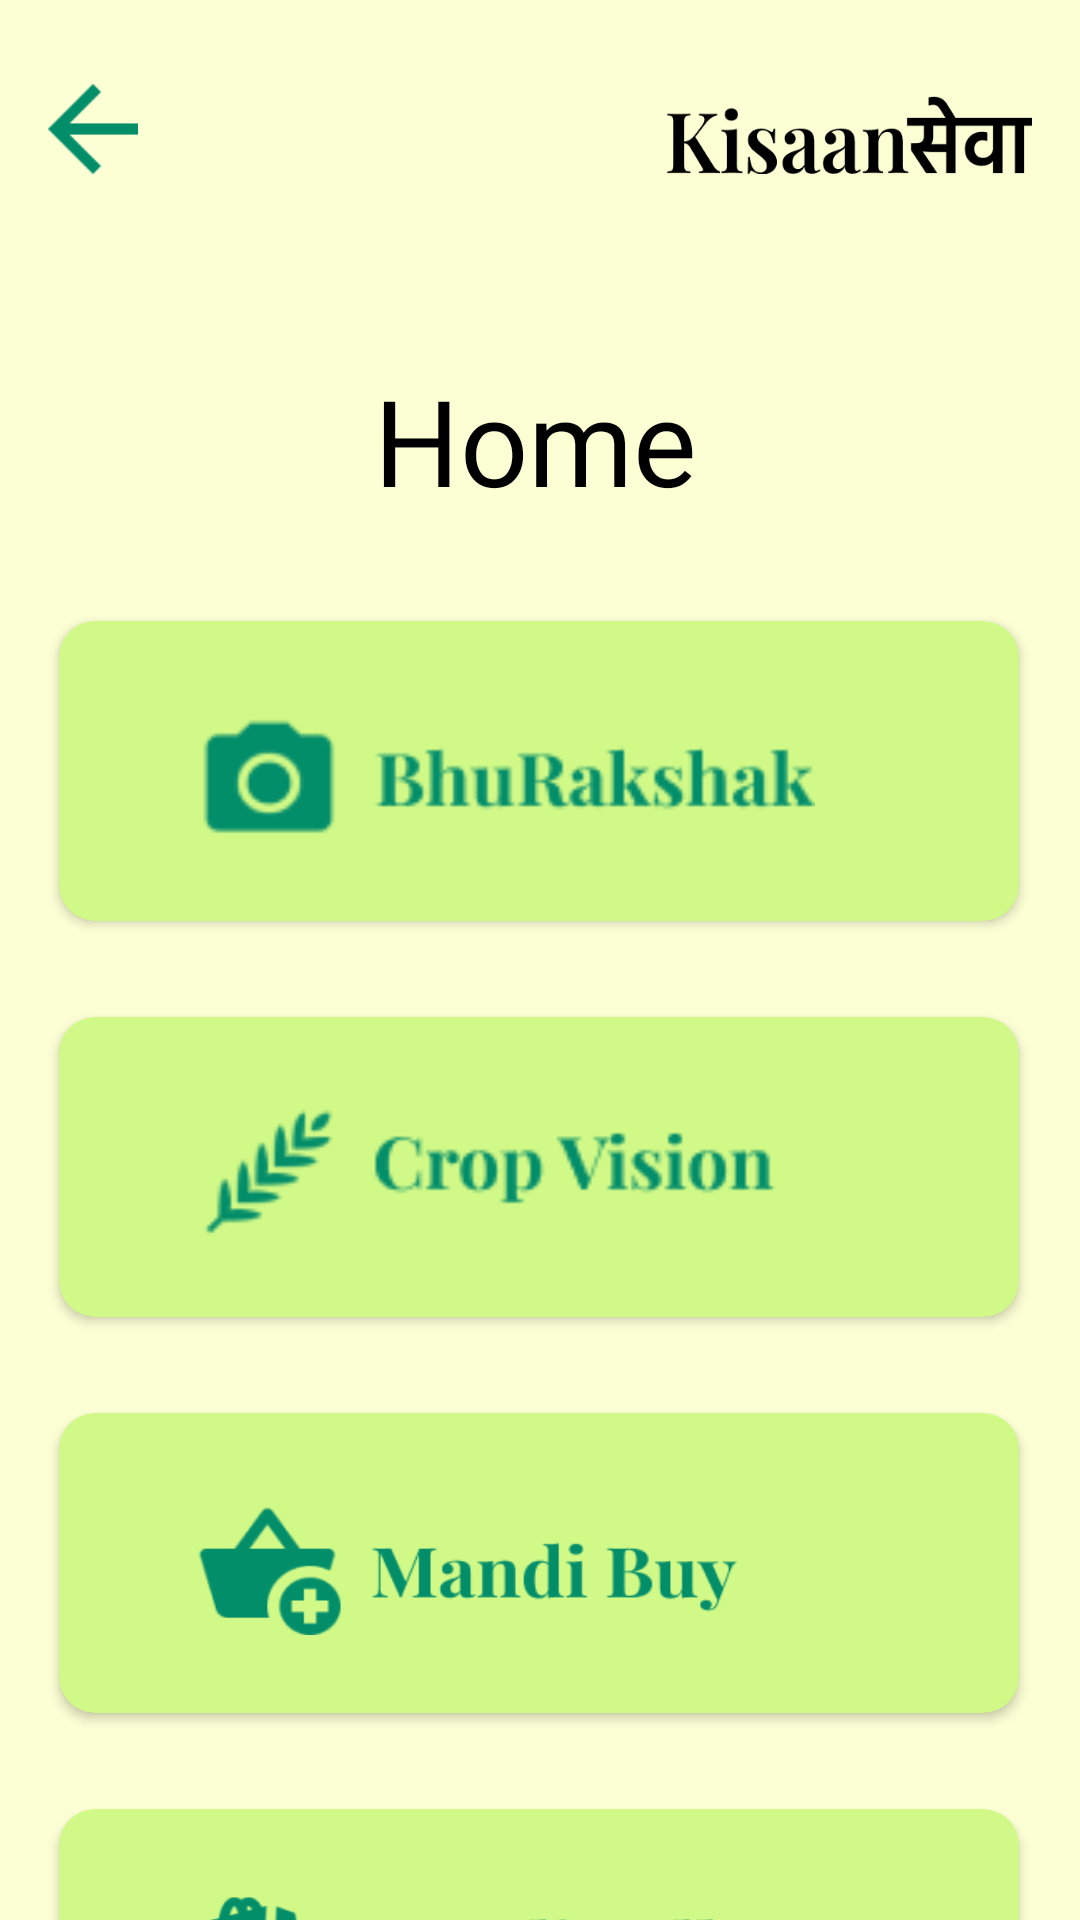

Point at icon controls on the screen. Image size 1080w x 1920h, points as (x=x, y=y).
back: (x=93, y=129)
